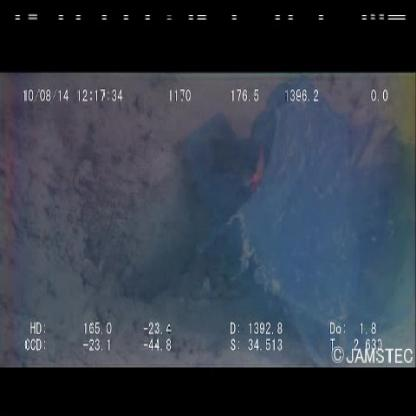Rác: (157, 73, 416, 363)
